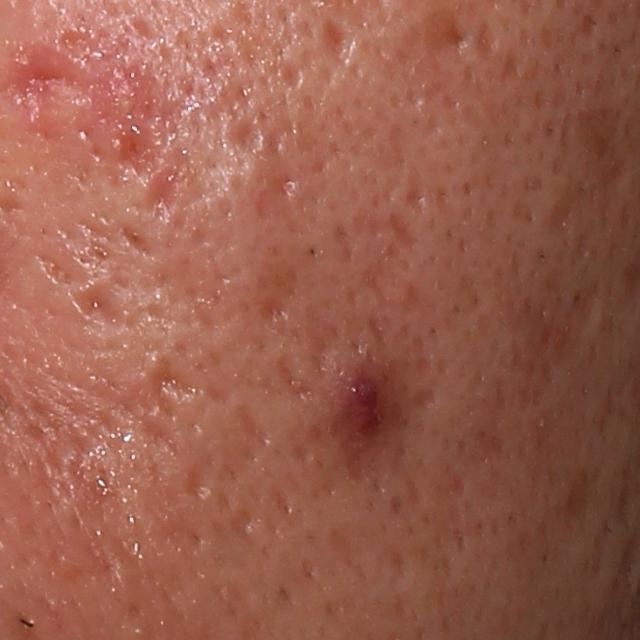atrophic_scar: (148, 359, 208, 424), (250, 172, 309, 238), (301, 297, 341, 378), (71, 282, 133, 333), (424, 4, 474, 60), (272, 351, 316, 408), (512, 305, 556, 355), (141, 163, 172, 225), (357, 259, 395, 309), (115, 216, 157, 259), (324, 18, 357, 68), (237, 399, 269, 450), (387, 208, 422, 251), (547, 189, 573, 244), (230, 117, 268, 154), (229, 506, 260, 550), (185, 457, 213, 501), (36, 255, 74, 287), (405, 161, 426, 214), (258, 295, 289, 330), (601, 159, 630, 193), (279, 57, 304, 94), (502, 46, 522, 84), (413, 387, 435, 411), (579, 14, 600, 37)
papule: (85, 68, 158, 155), (335, 367, 390, 437)
